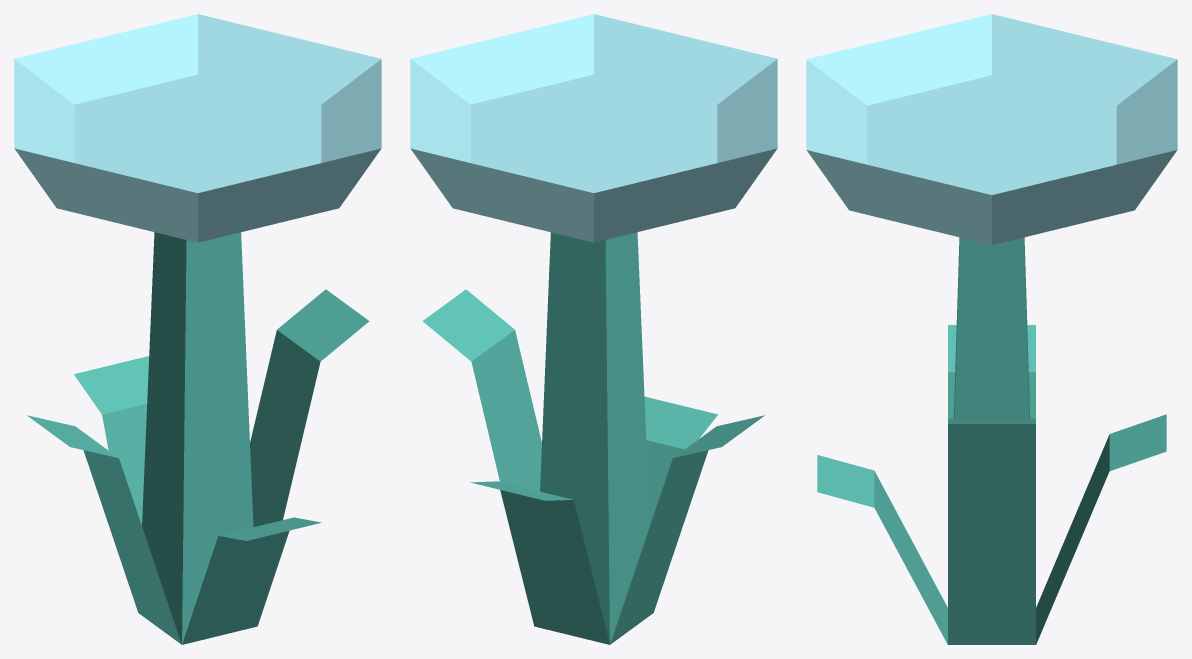
Rendered from flower_blue3.fbx.
The picture shows the model from 3 angles, left to right: view 1: azimuth 30°, elevation 25°; view 2: azimuth 150°, elevation 25°; view 3: azimuth 270°, elevation 25°; orthographic projection.
Visible parts, largest first — view 1: flower_blue3; view 2: flower_blue3; view 3: flower_blue3.
Part boxes in pixels (x1,y1,x2,y2): flower_blue3: [14, 14, 381, 644]; flower_blue3: [410, 14, 777, 644]; flower_blue3: [806, 14, 1177, 644].
Size of the model in its own units: 1.51 by 2.03 by 1.31.
